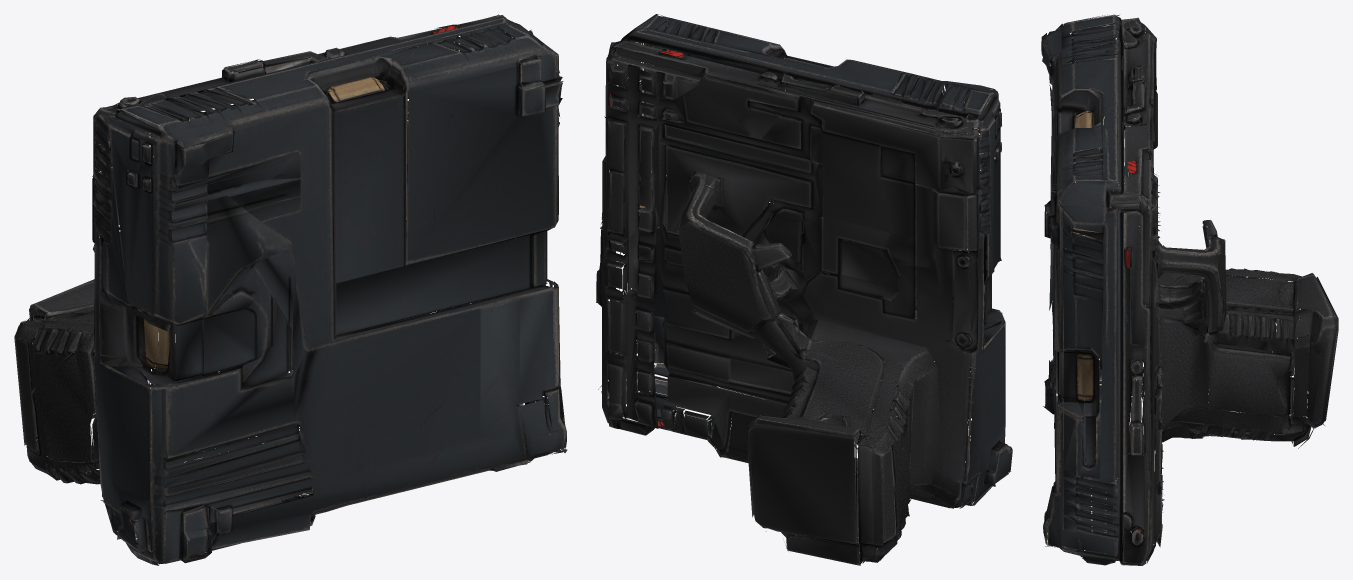
The picture shows the model from 3 angles, left to right: view 1: azimuth 30°, elevation 25°; view 2: azimuth 150°, elevation 25°; view 3: azimuth 270°, elevation 25°; orthographic projection. The views are drawn at different scales.
Parts seen in each view (by area): view 1: tripo_node_f0f17855-9eb3-4a68-a491-e7376d221348; view 2: tripo_node_f0f17855-9eb3-4a68-a491-e7376d221348; view 3: tripo_node_f0f17855-9eb3-4a68-a491-e7376d221348.
Part boxes in pixels (box(x1,y1,x2,y2)): tripo_node_f0f17855-9eb3-4a68-a491-e7376d221348: box(14, 14, 567, 565); tripo_node_f0f17855-9eb3-4a68-a491-e7376d221348: box(596, 14, 1012, 565); tripo_node_f0f17855-9eb3-4a68-a491-e7376d221348: box(1041, 14, 1338, 565).
Bounding box in the file's own units: 0.1912 × 0.191 × 0.1309.
1 material, 1 textured.
